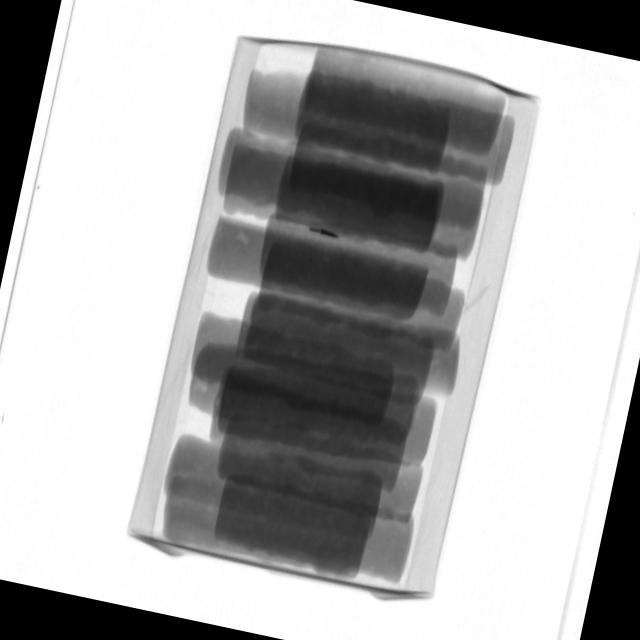ym: (309, 224, 342, 242)
